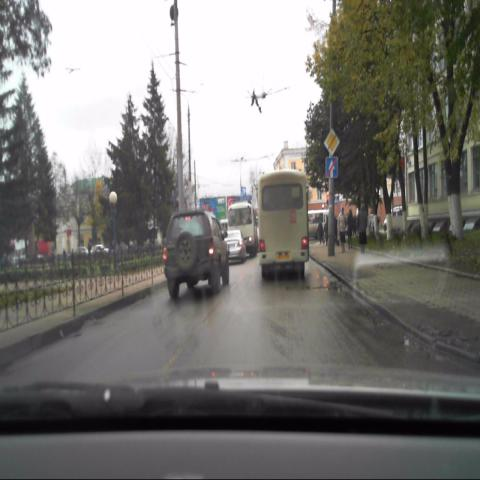2_2: (323, 128, 339, 154)
